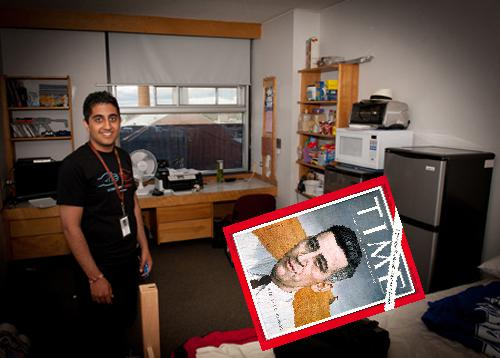times: (223, 174, 427, 351)
